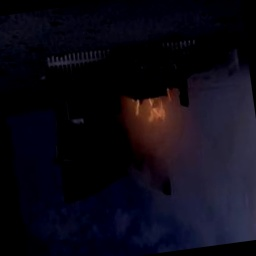fire: (124, 93, 178, 142)
smoke: (124, 121, 256, 256)
